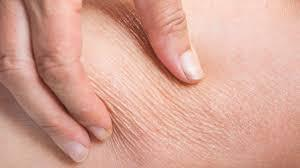Dry-Skin: (234, 97, 253, 128), (113, 104, 145, 122), (195, 110, 213, 141), (273, 79, 288, 103)
